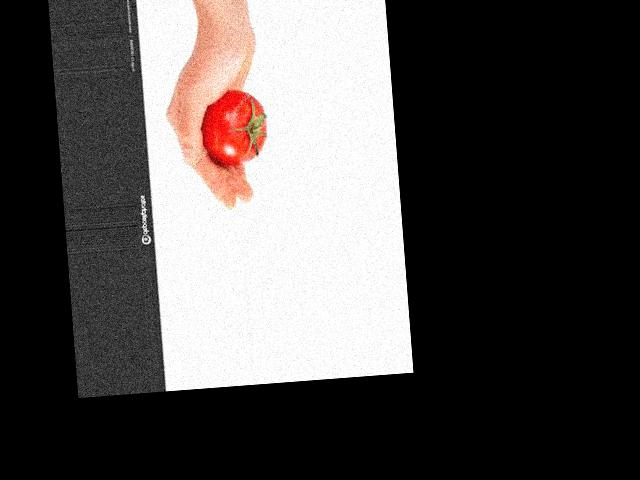tomato: (200, 86, 268, 164)
